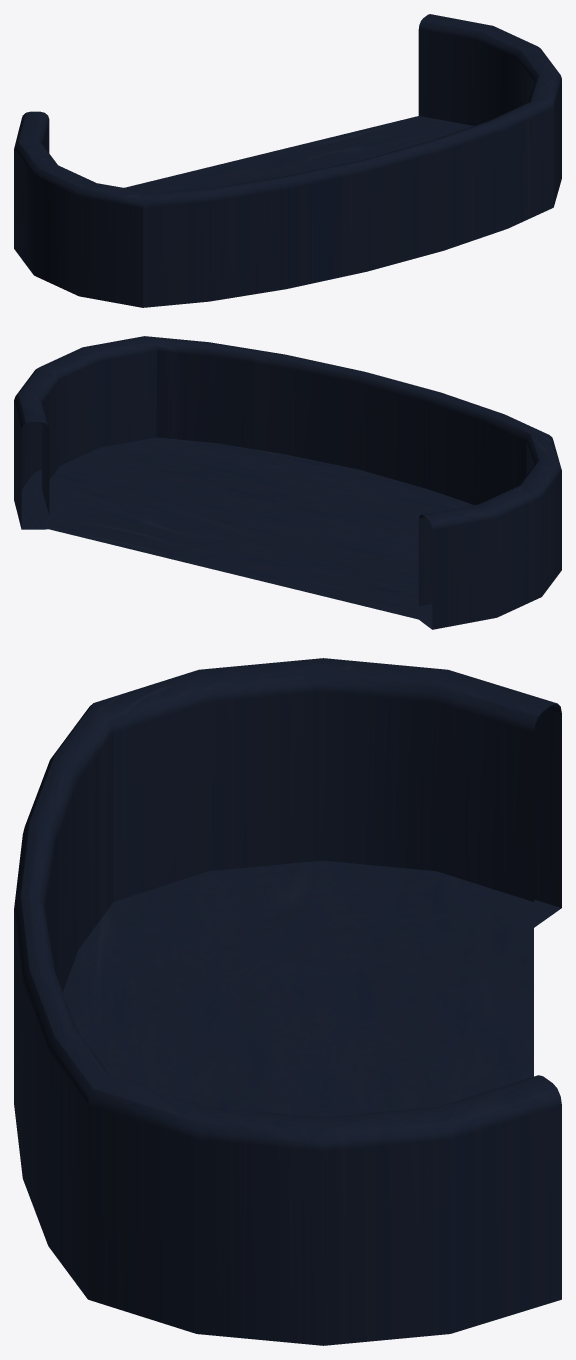
File: cook_bottom.fbx
3 renders of one model, top to bottom at view 1: azimuth 30°, elevation 25°; view 2: azimuth 150°, elevation 25°; view 3: azimuth 270°, elevation 25°, orthographic. The views are drawn at different scales.
Parts seen in each view (by area): view 1: cook_bottom; view 2: cook_bottom; view 3: cook_bottom.
Boxes of the visible parts, x1,y1,x2,y2 form: cook_bottom: (14, 14, 561, 307); cook_bottom: (14, 336, 561, 629); cook_bottom: (14, 658, 561, 1345).
Bounding box in the file's own units: 26.53 × 5.37 × 12.7.
